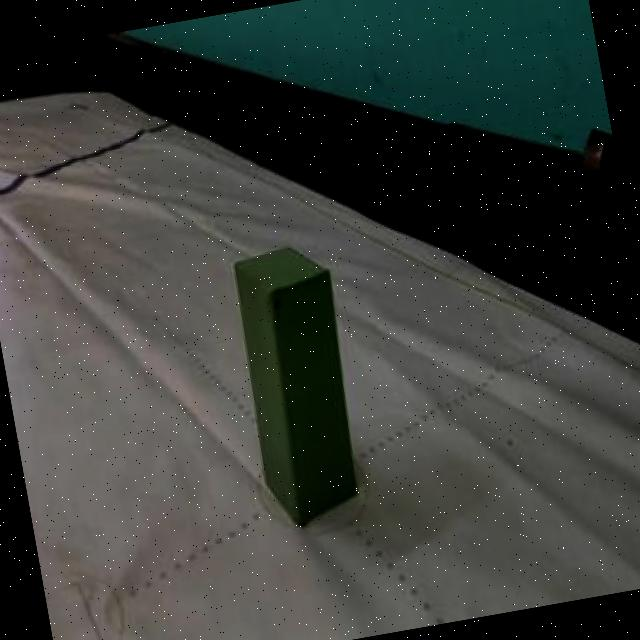greenbox: (224, 233, 374, 527)
